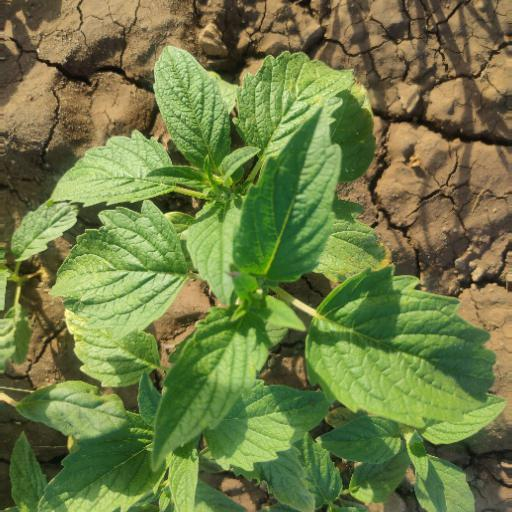crop: (16, 78, 488, 512)
